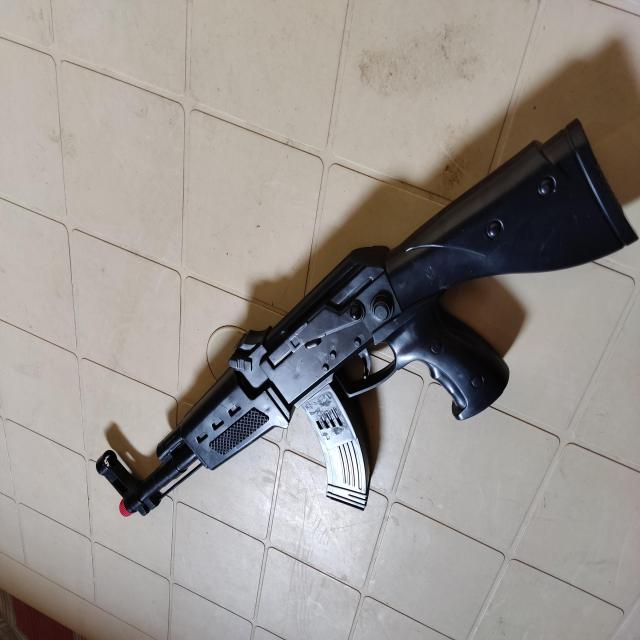rifle: (96, 118, 638, 517)
